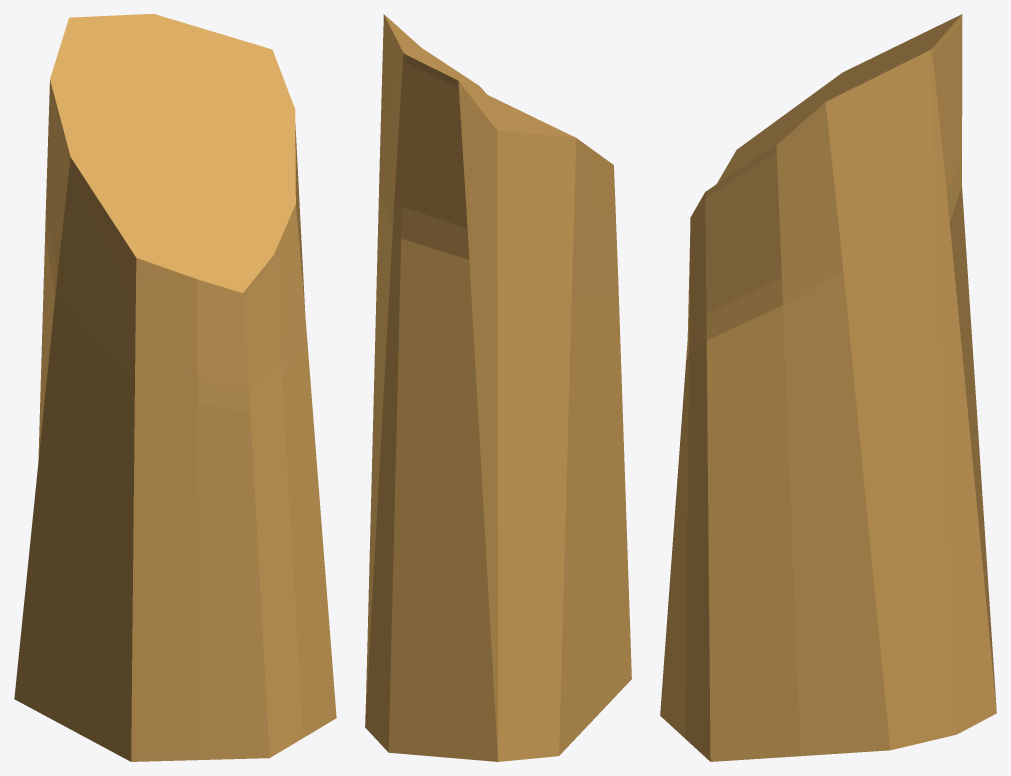
File: stone_2.fbx
3 renders of one model, left to right at view 1: azimuth 30°, elevation 25°; view 2: azimuth 150°, elevation 25°; view 3: azimuth 270°, elevation 25°, orthographic. The views are drawn at different scales.
Visible parts, largest first — view 1: Plane.043; view 2: Plane.043; view 3: Plane.043.
Boxes of the visible parts, x1,y1,x2,y2 form: Plane.043: (14,14,336,761); Plane.043: (365,14,631,761); Plane.043: (660,14,996,761).
Size of the model in its own units: 1788 by 4978 by 2255.
